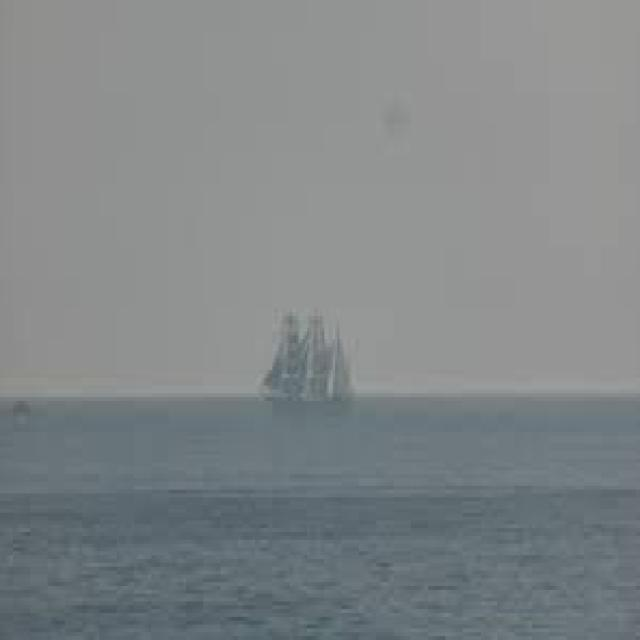fishing boat: (259, 302, 359, 405)
